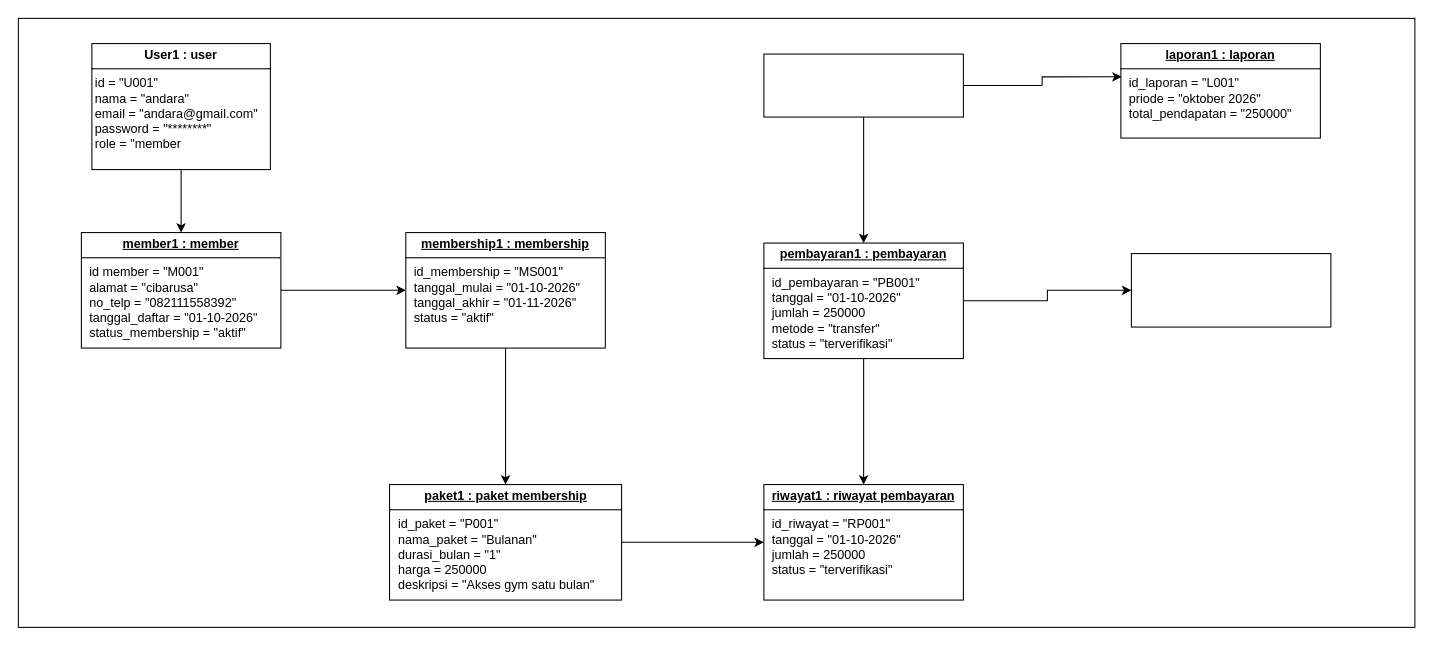
Some shapes in this 1433 by 646 pixel diagram are drawn without their labels. The shapes that lost their labels are listed below. From the top down, each one's centre as x and y in pixels, then its label:
pixel 863 85: admin1 : admin id_admin = "AD001"
pixel 1230 290: struk1 : struk pembayaran id_struk = "ST001" tanggal_cetak = "01-10-2026"
